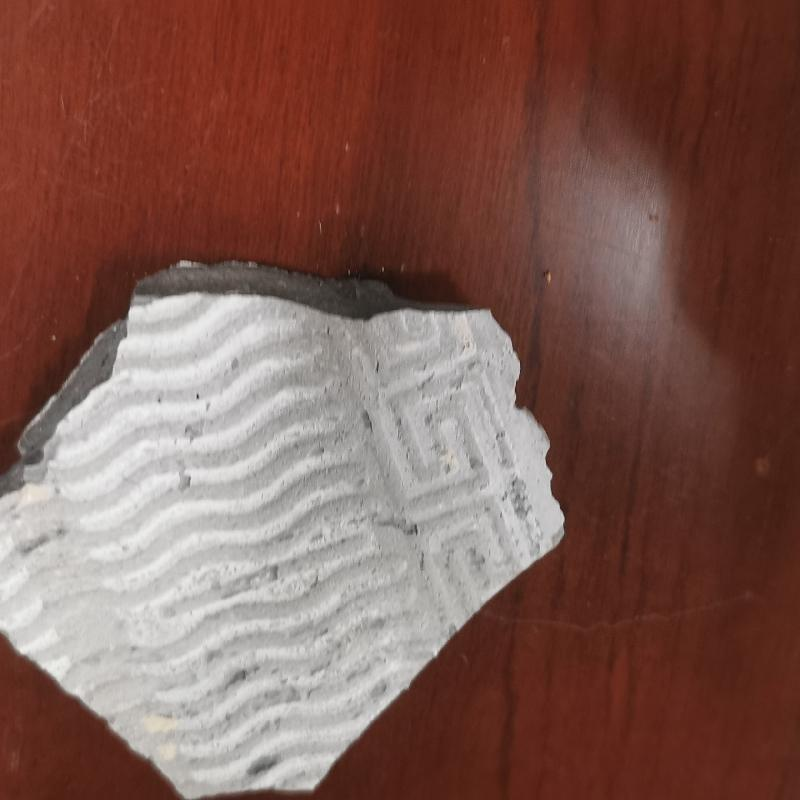tile: (8, 254, 569, 799)
